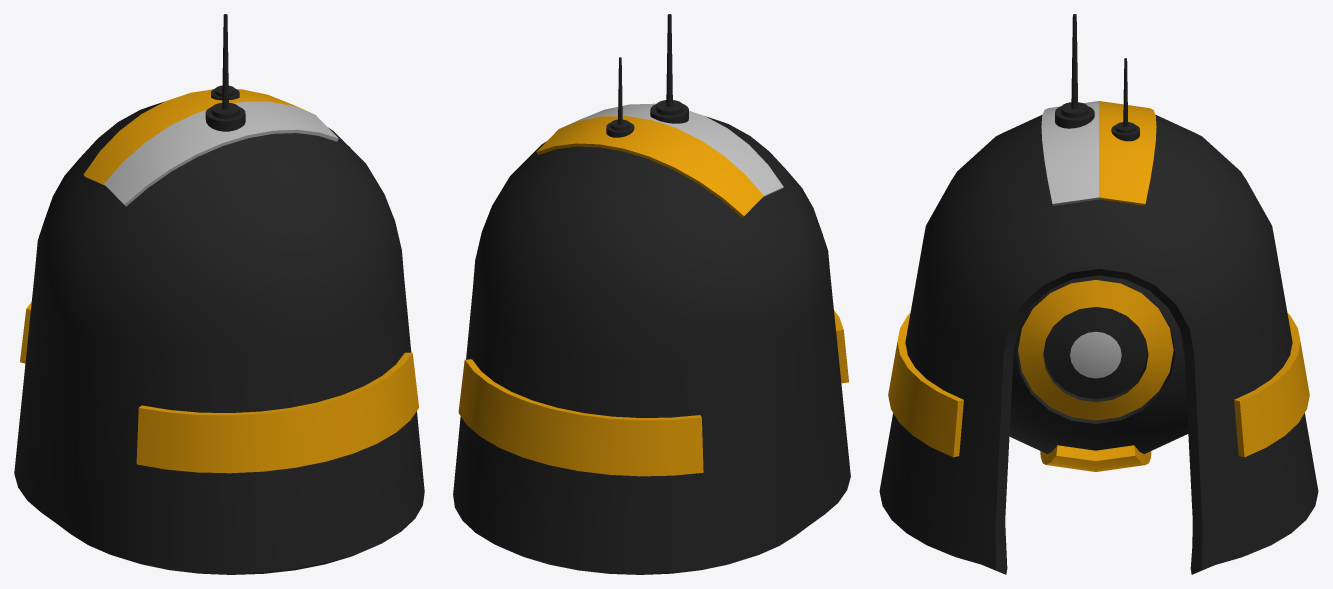
File: enemie_invisible.fbx
3 views of the same model, side by side, from view 1: azimuth 30°, elevation 25°; view 2: azimuth 150°, elevation 25°; view 3: azimuth 270°, elevation 25° (orthographic). The views are drawn at different scales.
Visible parts, largest first — view 1: pSphere4, pCylinder6; view 2: pSphere4, pCylinder6, pCylinder7; view 3: pSphere4, pSphere3, pCylinder6, pCylinder7.
Boxes of the visible parts, x1=… form: pSphere4: x1=14, y1=89, x2=424, y2=574; pCylinder6: x1=205, y1=14, x2=245, y2=131; pSphere4: x1=453, y1=103, x2=850, y2=574; pCylinder6: x1=650, y1=14, x2=688, y2=123; pCylinder7: x1=606, y1=57, x2=634, y2=137; pSphere4: x1=879, y1=101, x2=1318, y2=574; pSphere3: x1=1009, y1=275, x2=1188, y2=471; pCylinder6: x1=1055, y1=14, x2=1094, y2=128; pCylinder7: x1=1111, y1=58, x2=1139, y2=141.
Bounding box in the file's own units: 0.0428 × 0.0632 × 0.0518.
